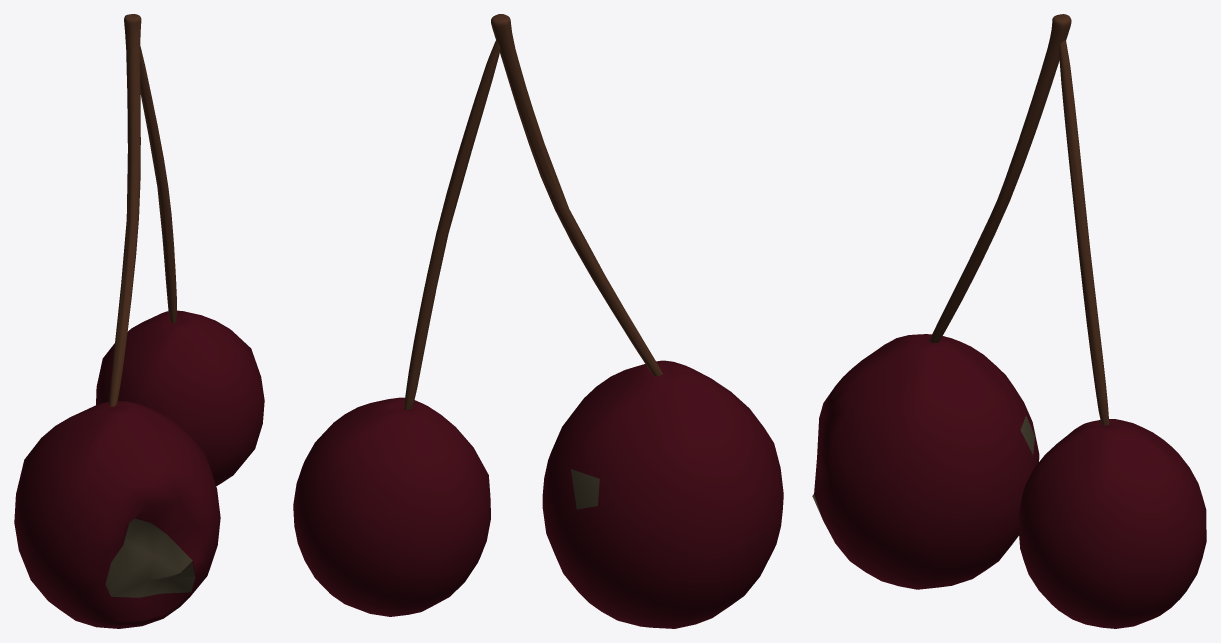
Rendered from Cherry_rotten.fbx.
3 renders of one model, left to right at view 1: azimuth 30°, elevation 25°; view 2: azimuth 150°, elevation 25°; view 3: azimuth 270°, elevation 25°, orthographic. The views are drawn at different scales.
Parts seen in each view (by area): view 1: polySurface5, polySurface6, polySurface8, polySurface7; view 2: polySurface5, polySurface6, polySurface8, polySurface7; view 3: polySurface5, polySurface6, polySurface8, polySurface7.
Part boxes in pixels (bbox=[...]): polySurface5: bbox=[14, 401, 220, 628]; polySurface6: bbox=[96, 310, 264, 485]; polySurface8: bbox=[109, 14, 141, 406]; polySurface7: bbox=[140, 46, 176, 323]; polySurface5: bbox=[542, 360, 783, 628]; polySurface6: bbox=[293, 397, 490, 616]; polySurface8: bbox=[491, 14, 662, 375]; polySurface7: bbox=[404, 40, 500, 409]; polySurface5: bbox=[812, 334, 1039, 589]; polySurface6: bbox=[1018, 419, 1206, 628]; polySurface8: bbox=[929, 14, 1071, 342]; polySurface7: bbox=[1059, 40, 1109, 425].
Bounding box in the file's own units: 0.805 × 1.35 × 0.7933.
